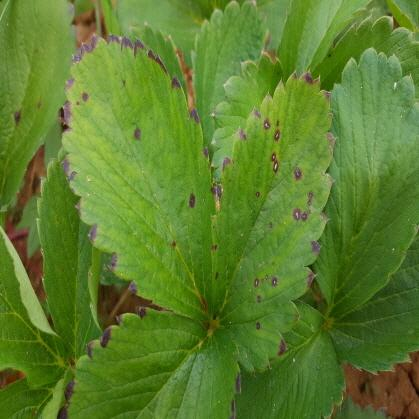Leaf Spot: (59, 32, 218, 321), (208, 68, 337, 377), (0, 0, 79, 216)
